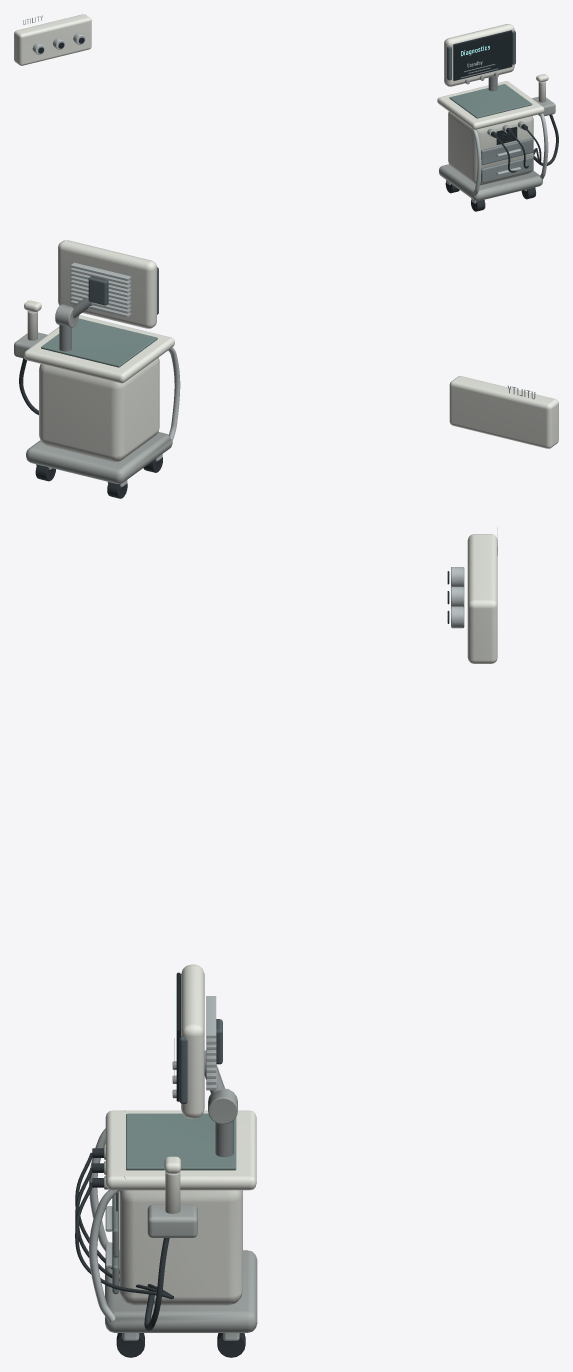
Rendered from equipment-standard.glb.
3 views of the same model, one above another, from view 1: azimuth 30°, elevation 25°; view 2: azimuth 150°, elevation 25°; view 3: azimuth 270°, elevation 25° (orthographic). The views are drawn at different scales.
Visible parts, largest first — view 1: equipment__Ceramic medical shell, equipment__Recess and gasket, equipment__Graphite enamel, equipment__Recessed titanium panels, equipment__Medical upholstery, equipment__Satin aluminium, equipment__Restraint webbing, equipment__Coated pressure frame; view 2: equipment__Ceramic medical shell, equipment__Graphite enamel, equipment__Satin aluminium, equipment__Medical upholstery, equipment__Restraint webbing, equipment__Coated pressure frame; view 3: equipment__Ceramic medical shell, equipment__Graphite enamel, equipment__Satin aluminium, equipment__Medical upholstery, equipment__Restraint webbing.
Part boxes in pixels (left/top/right/bottom): equipment__Ceramic medical shell: left=14, top=14, right=548, bottom=185; equipment__Recess and gasket: left=38, top=30, right=517, bottom=144; equipment__Graphite enamel: left=439, top=72, right=555, bottom=201; equipment__Recessed titanium panels: left=461, top=64, right=533, bottom=183; equipment__Medical upholstery: left=449, top=84, right=532, bottom=118; equipment__Satin aluminium: left=32, top=33, right=548, bottom=203; equipment__Restraint webbing: left=445, top=114, right=558, bottom=211; equipment__Coated pressure frame: left=447, top=30, right=515, bottom=80; equipment__Ceramic medical shell: left=24, top=240, right=558, bottom=461; equipment__Graphite enamel: left=14, top=304, right=172, bottom=483; equipment__Satin aluminium: left=36, top=262, right=180, bottom=487; equipment__Medical upholstery: left=41, top=318, right=157, bottom=367; equipment__Restraint webbing: left=19, top=358, right=162, bottom=498; equipment__Coated pressure frame: left=88, top=267, right=158, bottom=314; equipment__Ceramic medical shell: left=105, top=534, right=497, bottom=1305; equipment__Graphite enamel: left=105, top=1061, right=257, bottom=1332; equipment__Satin aluminium: left=89, top=567, right=464, bottom=1340; equipment__Medical upholstery: left=126, top=1113, right=236, bottom=1170; equipment__Restraint webbing: left=75, top=1148, right=245, bottom=1357.
Bounding box in the file's own units: 6.36 × 2.79 × 2.52.
